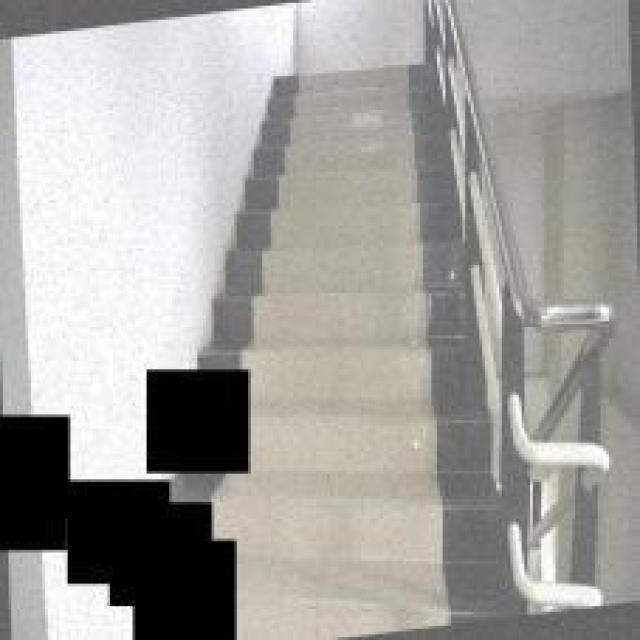upstair: (272, 103, 438, 351)
